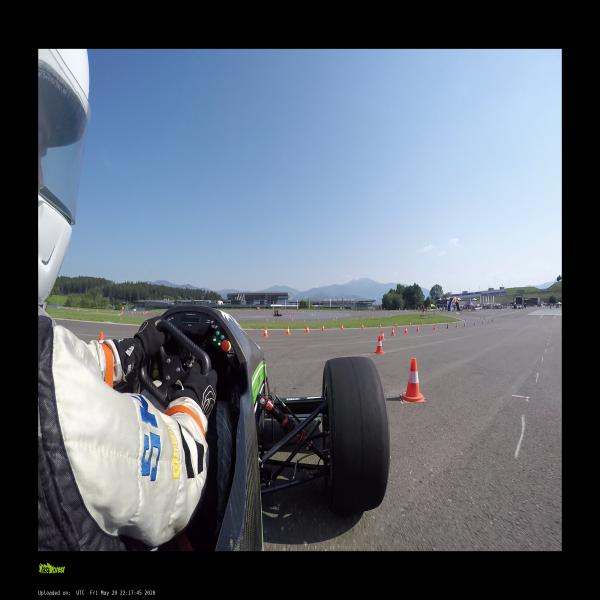orange_cone: (402, 359, 424, 402), (374, 336, 384, 354), (99, 332, 104, 344), (263, 327, 268, 336), (284, 327, 290, 334), (380, 330, 384, 340), (391, 327, 395, 335), (305, 326, 310, 332), (404, 327, 408, 333), (416, 325, 419, 332), (340, 325, 344, 330), (433, 325, 436, 330), (322, 324, 324, 331), (361, 324, 364, 328), (446, 324, 449, 328), (455, 323, 457, 328), (379, 324, 381, 328), (409, 322, 411, 326), (421, 321, 422, 325), (396, 323, 397, 326), (464, 323, 465, 326), (436, 321, 437, 324)
